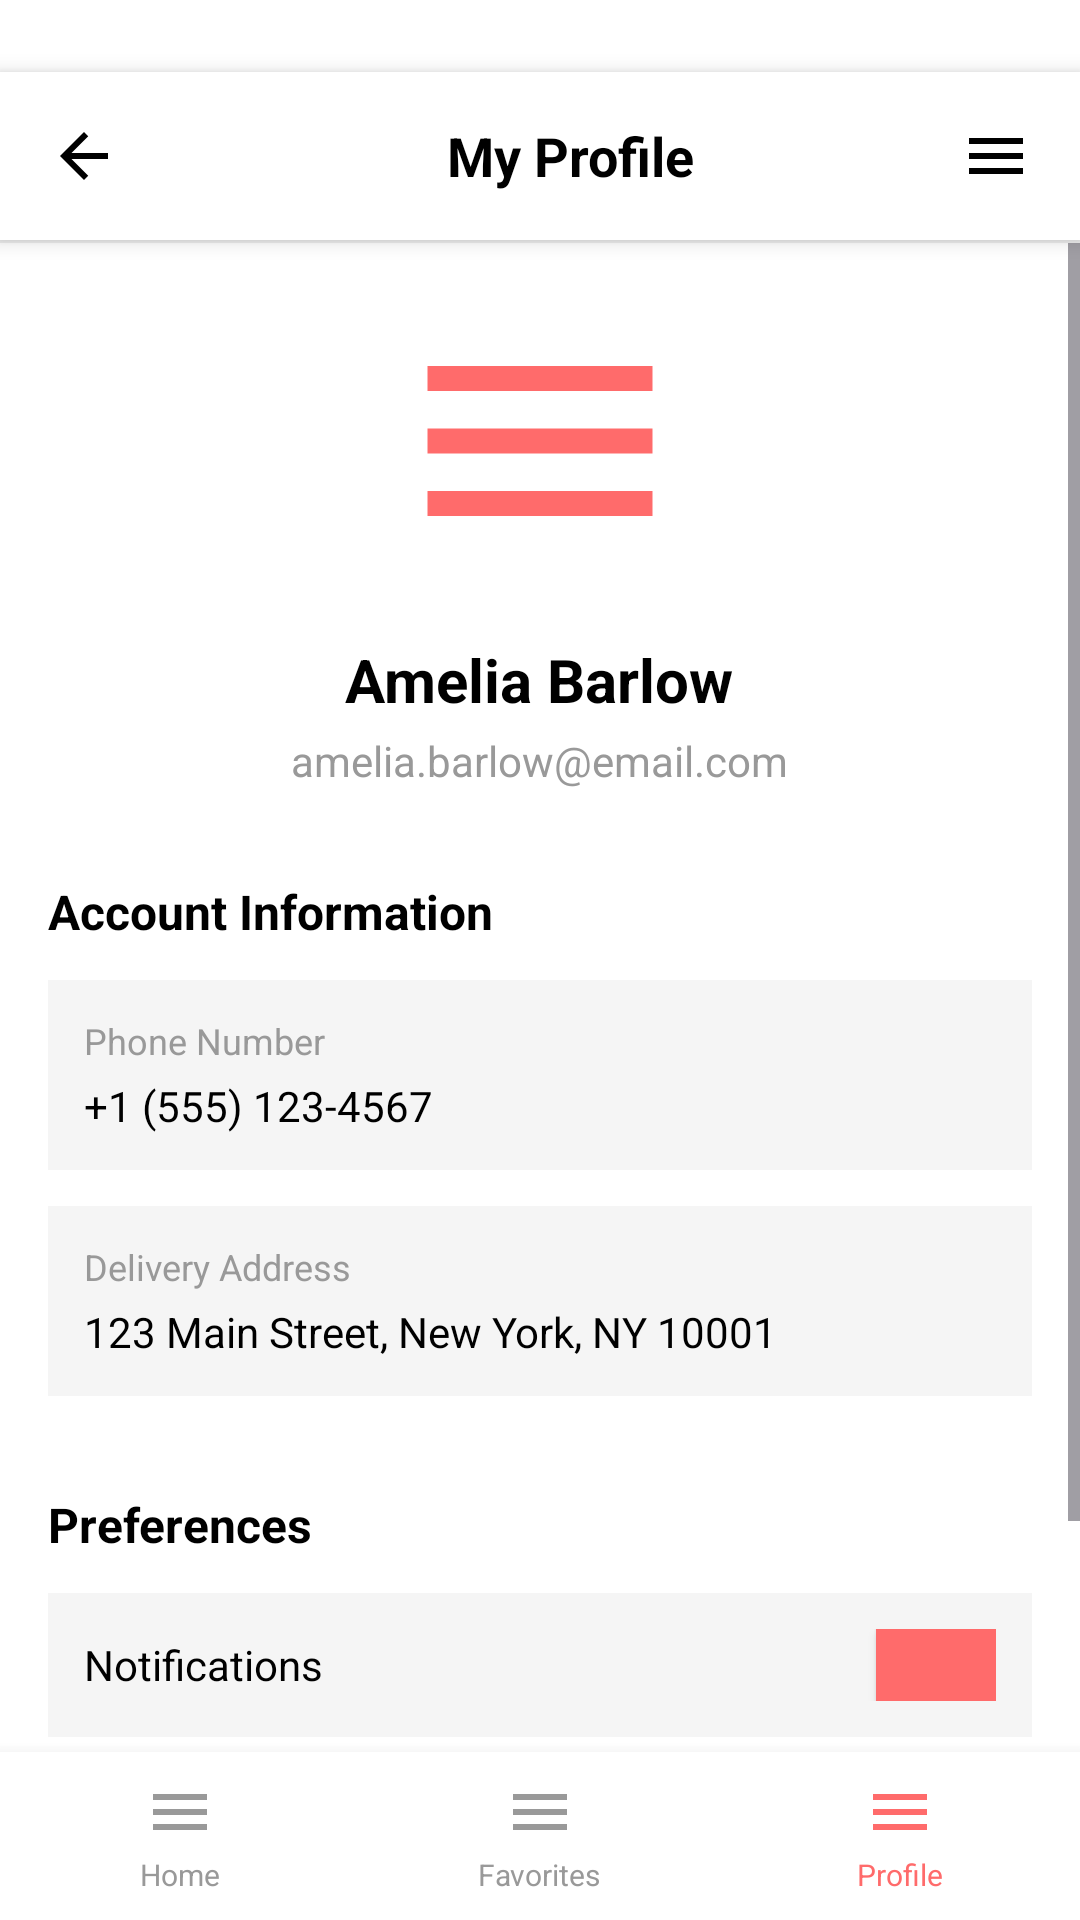

Point at icon controls on the screen. Image size 1080×1920, points as (x,y).
Back: (84,156)
